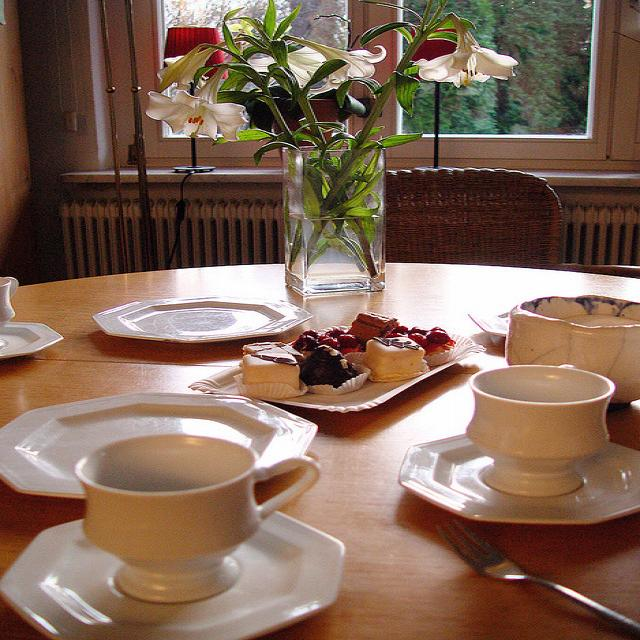chair: (384, 167, 561, 269)
dining table: (0, 261, 640, 631)
